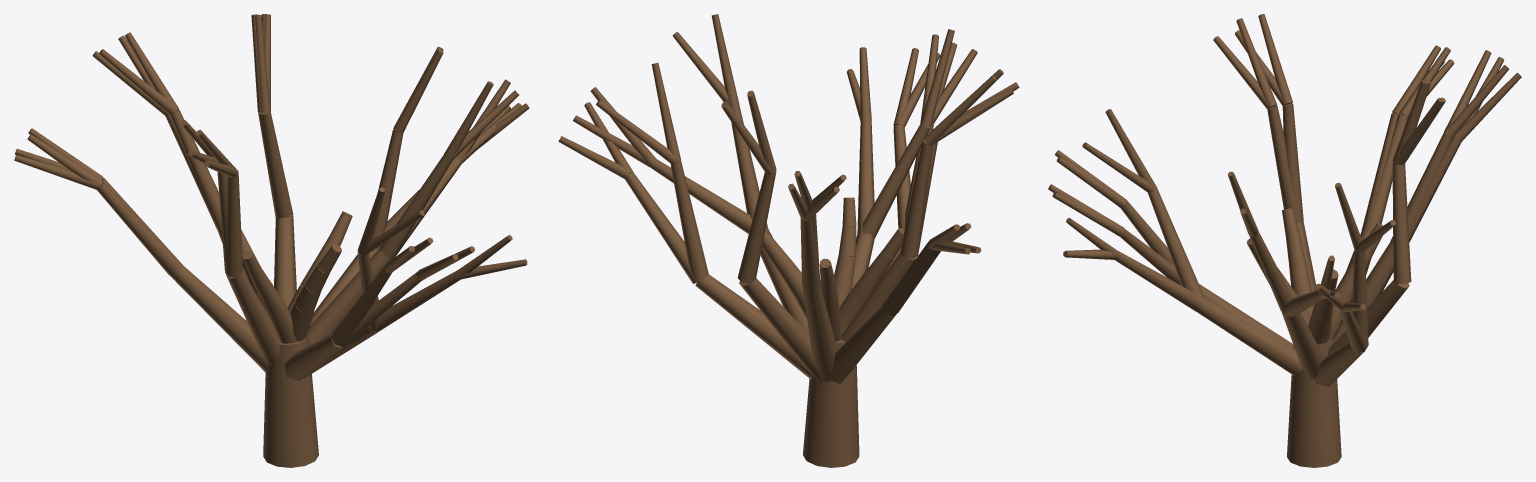
Rendered from diszalma-royalty-fa-tel.glb.
3 views of the same model, side by side, from view 1: azimuth 30°, elevation 25°; view 2: azimuth 150°, elevation 25°; view 3: azimuth 270°, elevation 25° (orthographic). The views are drawn at different scales.
Visible parts, largest first — view 1: torzs, gally-4-1, gally-1-3 (×4), gally-2-2 (×2), gally-5-3 (×3), gally-3-2 (×2), gally-0-2 (×2), gally-3-1, gally-0-1, gally-5-2 (×2), gally-1-2 (×2), gally-6-1 (+9 smaller); view 2: torzs, gally-7-2 (×2), gally-1-2 (×2), gally-7-3 (×4), gally-0-3 (×4), gally-0-2 (×2), gally-7-1, gally-1-3 (×3), gally-6-1, gally-2-3 (×3), gally-5-1, gally-3-2 (+14 smaller); view 3: torzs, gally-1-2 (×2), gally-3-2 (×2), gally-3-3 (×3), gally-1-1, gally-5-3 (×3), gally-4-2 (×2), gally-5-2 (×2), gally-6-2 (×2), gally-2-2 (×2), gally-0-2 (×2), gally-7-2 (×2) (+11 smaller).
Part boxes in pixels (x1,y1,x2,y2): torzs: [263, 334, 318, 467]; gally-4-1: [169, 265, 267, 372]; gally-1-3 (×4): [357, 187, 527, 279]; gally-2-2 (×2): [331, 267, 421, 347]; gally-5-3 (×3): [92, 32, 178, 116]; gally-3-2 (×2): [217, 172, 242, 276]; gally-0-2 (×2): [379, 155, 461, 258]; gally-3-1: [226, 271, 281, 367]; gally-0-1: [307, 249, 393, 345]; gally-5-2 (×2): [165, 109, 221, 228]; gally-1-2 (×2): [357, 251, 460, 332]; gally-6-1: [274, 216, 296, 307]; torzs: [803, 339, 859, 467]; gally-7-2 (×2): [625, 159, 708, 283]; gally-1-2 (×2): [857, 119, 930, 237]; gally-7-3 (×4): [558, 63, 680, 178]; gally-0-3 (×4): [573, 14, 739, 167]; gally-0-2 (×2): [650, 105, 767, 234]; gally-7-1: [695, 274, 816, 379]; gally-1-3 (×3): [859, 29, 954, 127]; gally-6-1: [739, 278, 821, 382]; gally-2-3 (×3): [893, 48, 977, 127]; gally-5-1: [802, 286, 837, 381]; gally-3-2: [900, 140, 932, 258]; torzs: [1287, 338, 1341, 467]; gally-1-2 (×2): [1114, 188, 1205, 311]; gally-3-2 (×2): [1267, 103, 1303, 222]; gally-3-3 (×3): [1213, 14, 1292, 109]; gally-1-1: [1196, 298, 1301, 377]; gally-5-3 (×3): [1444, 50, 1521, 141]; gally-4-2 (×2): [1361, 113, 1407, 231]; gally-5-2 (×2): [1390, 132, 1461, 243]; gally-6-2 (×2): [1392, 162, 1411, 283]; gally-2-2 (×2): [1119, 201, 1181, 285]; gally-0-2 (×2): [1249, 232, 1324, 316]; gally-7-2 (×2): [1340, 250, 1368, 352].
Bounding box in the file's own units: 7.59 × 6.29 × 6.97.
